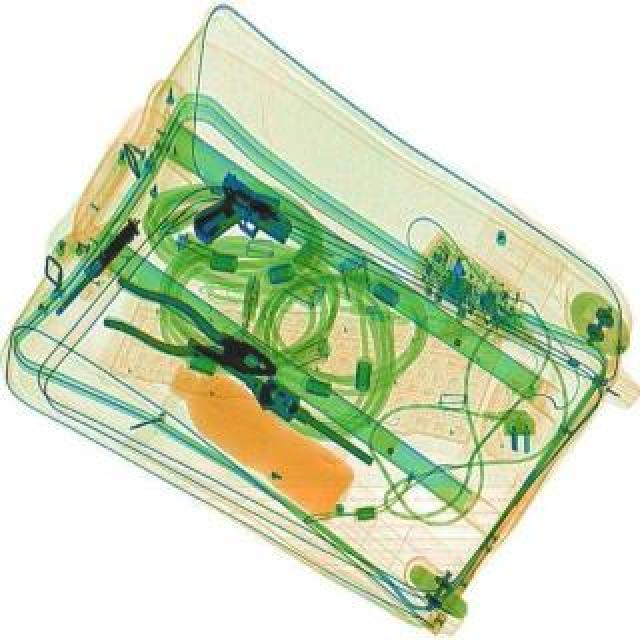gun: (178, 164, 306, 278)
wrench: (94, 276, 288, 390)
